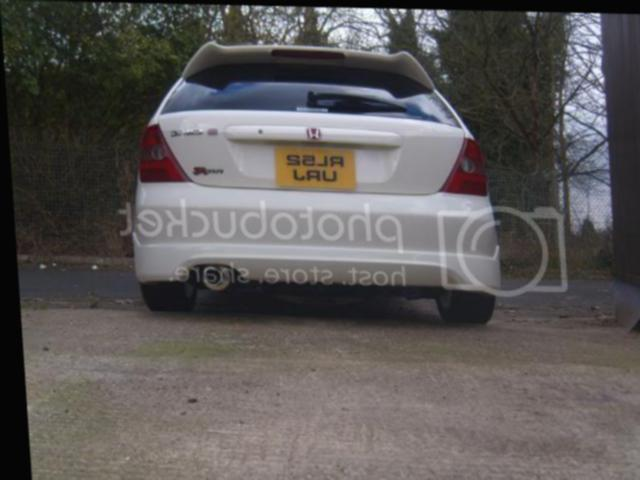License_Plate: (267, 143, 361, 191)
